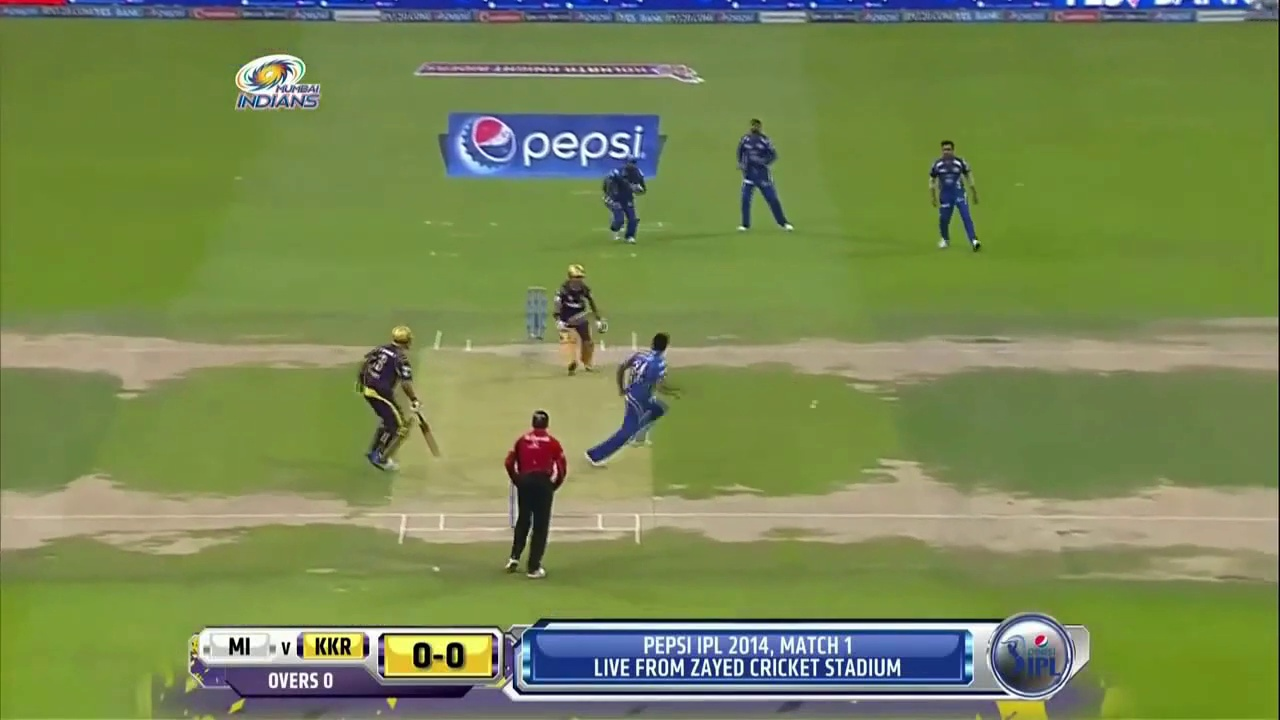bat: (417, 412, 442, 458)
